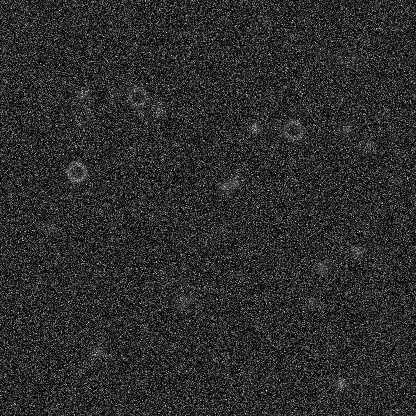Ring: (281, 117, 305, 141), (333, 44, 357, 68), (68, 101, 92, 125), (125, 84, 149, 108), (343, 378, 367, 402), (18, 3, 42, 27), (250, 18, 274, 42), (64, 160, 88, 184)
Spot: (226, 174, 242, 190), (18, 185, 34, 201), (68, 122, 84, 138), (174, 292, 190, 308), (314, 259, 330, 275), (303, 294, 319, 310), (150, 101, 166, 117), (332, 375, 348, 391), (246, 120, 262, 136), (361, 138, 377, 154), (329, 90, 345, 106), (42, 219, 58, 235), (66, 388, 82, 404), (89, 342, 105, 358), (216, 179, 232, 195), (338, 121, 354, 137), (108, 85, 124, 101), (349, 243, 365, 259), (74, 86, 90, 102)
